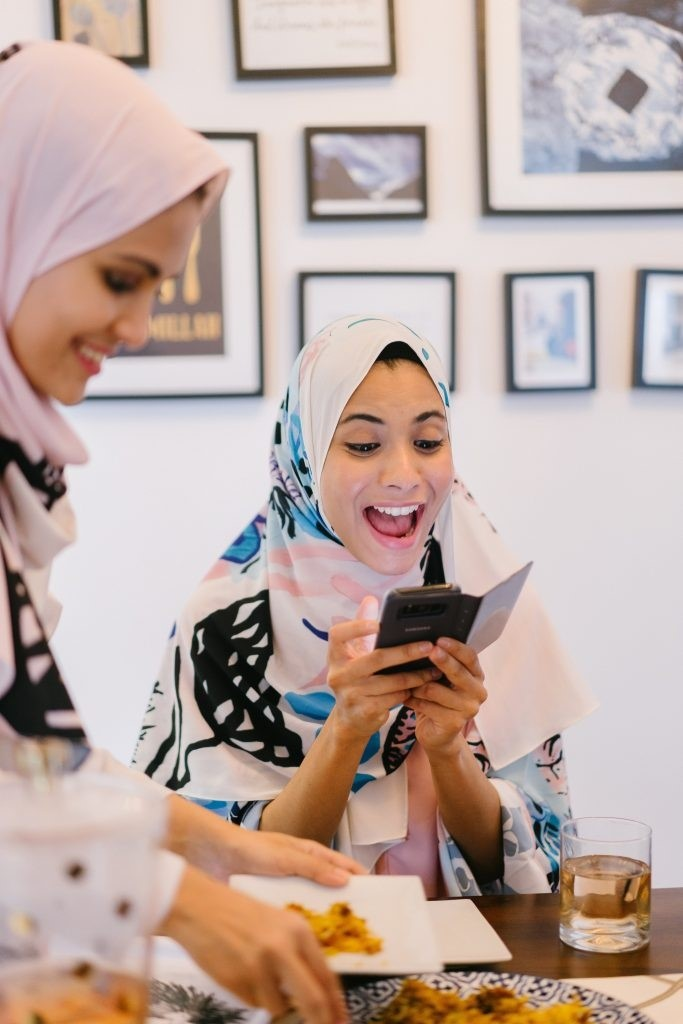face_no_mask: (10, 123, 197, 409), (306, 337, 455, 577)
